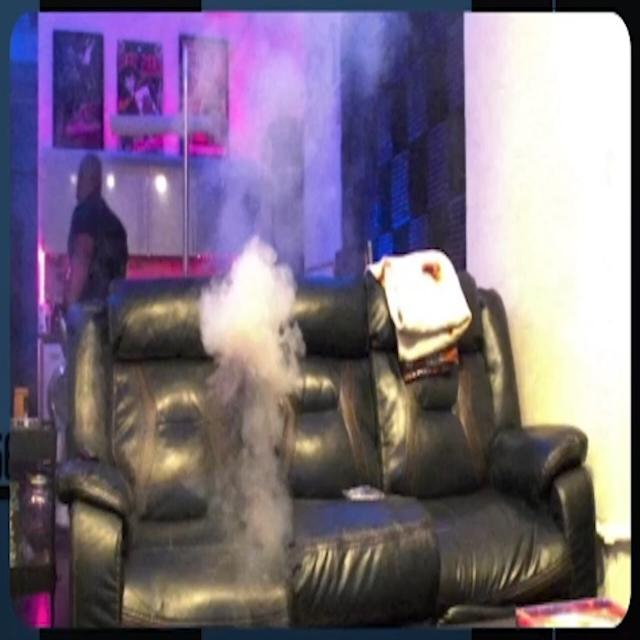Smoke: (208, 228, 296, 568)
